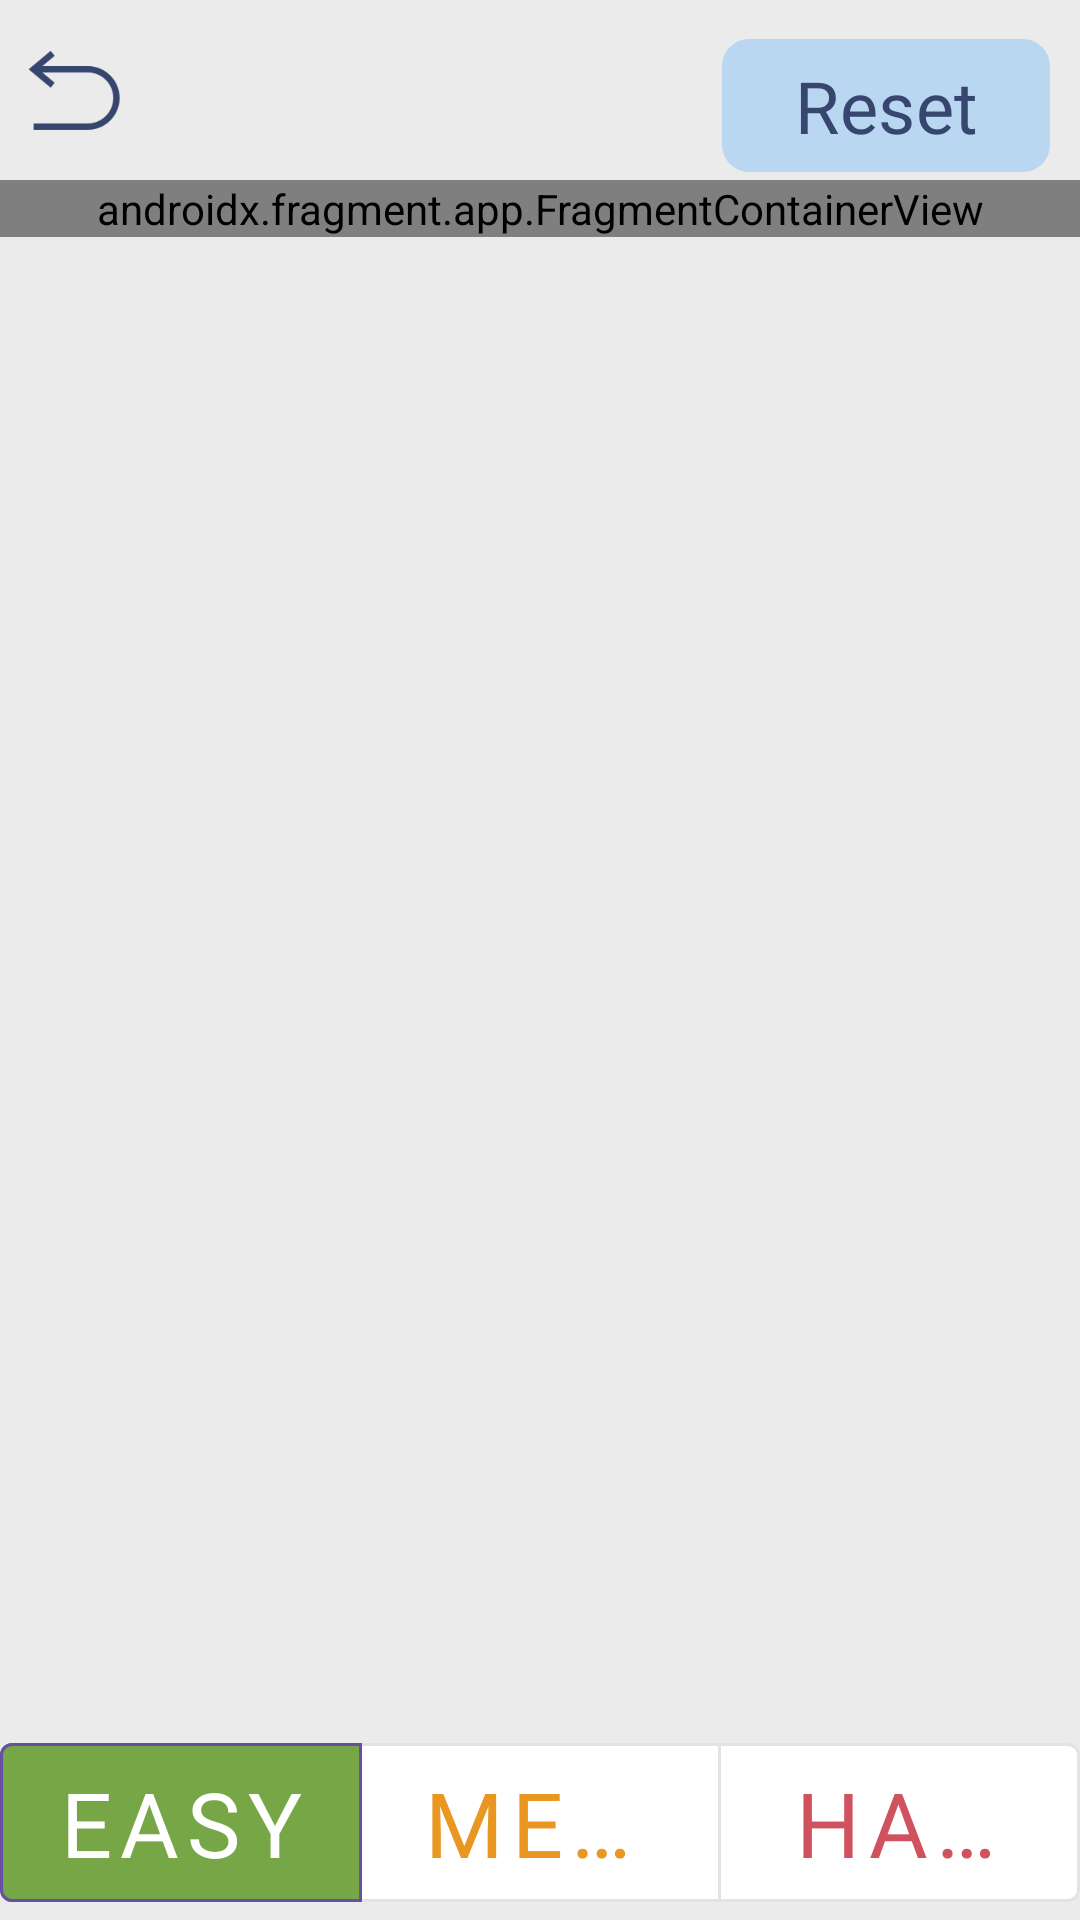

Screen size 1080 × 1920. Icon name, then its center in pixels as (x=x, y=y):
back: (x=74, y=90)
